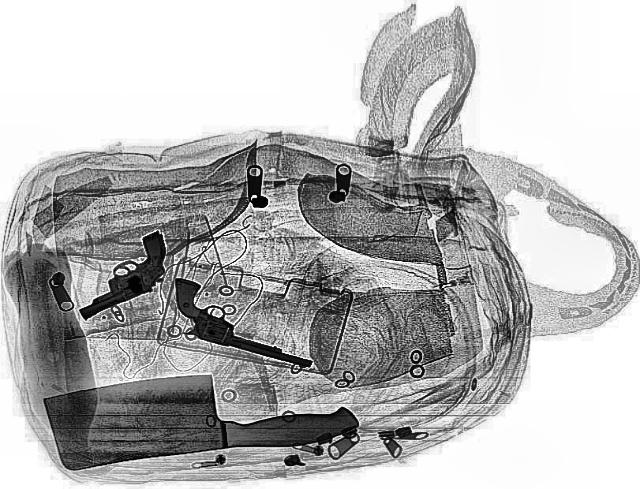Gun: (147, 276, 336, 368), (47, 230, 195, 321)
Knife: (39, 354, 361, 474)
